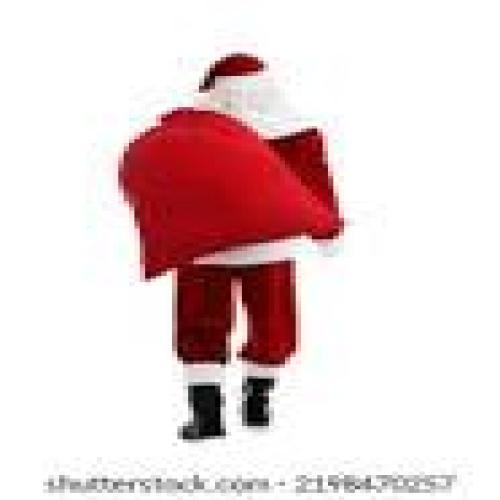Santa: (115, 43, 354, 456)
